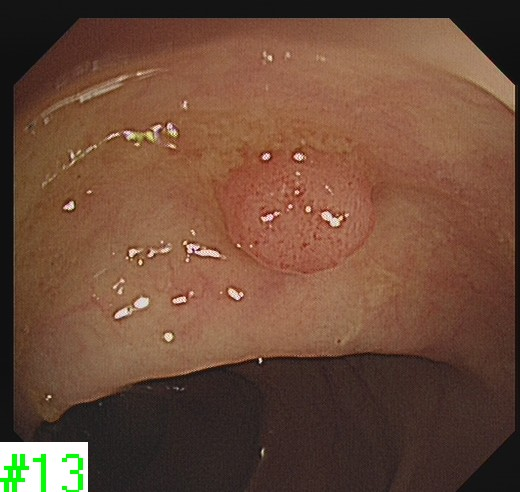adenoma: (212, 154, 379, 278)
